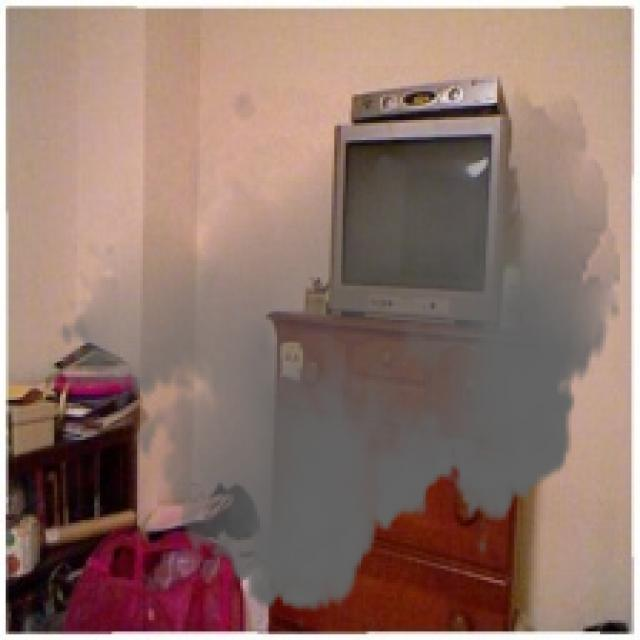smoke: (57, 66, 620, 631)
